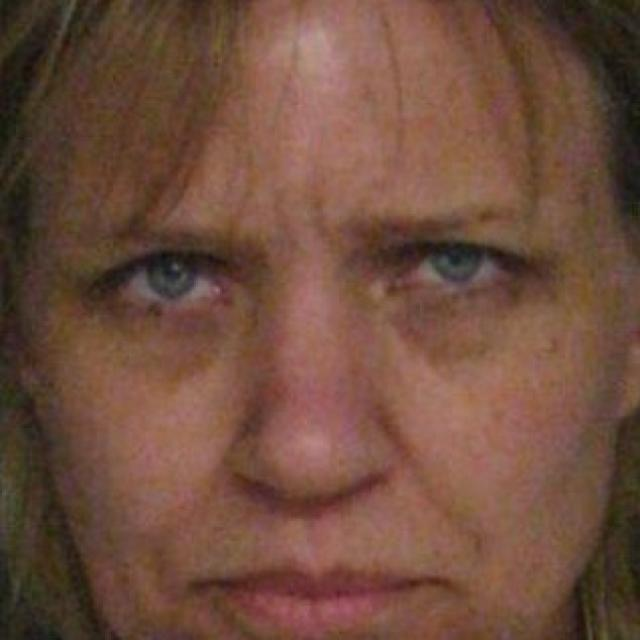Depress: (27, 2, 638, 638)
